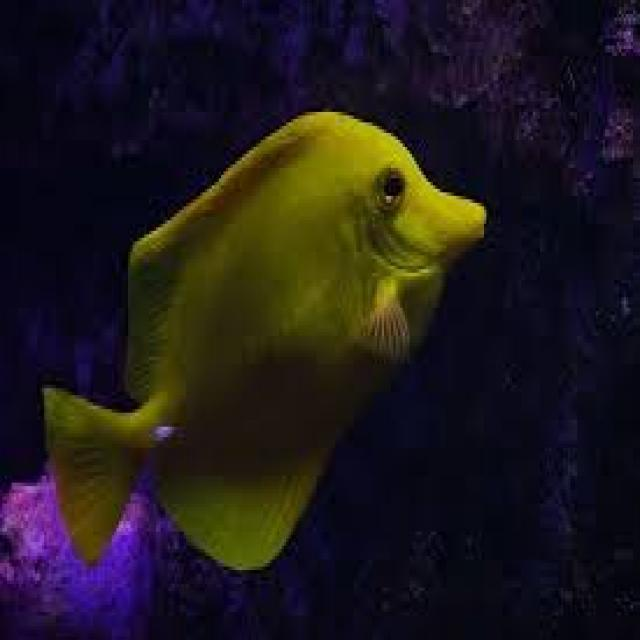TangFish: (38, 104, 486, 572)
